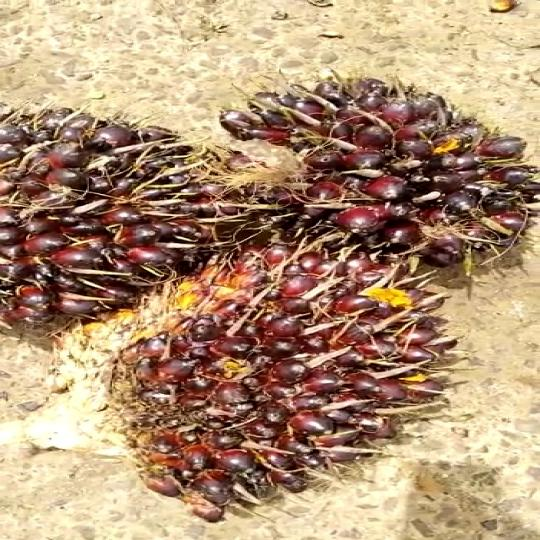kurang masak: (105, 251, 467, 512), (227, 79, 540, 282), (1, 103, 258, 329)
